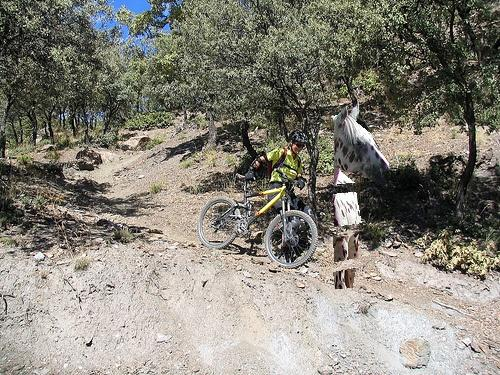tampered: (334, 103, 389, 289)
